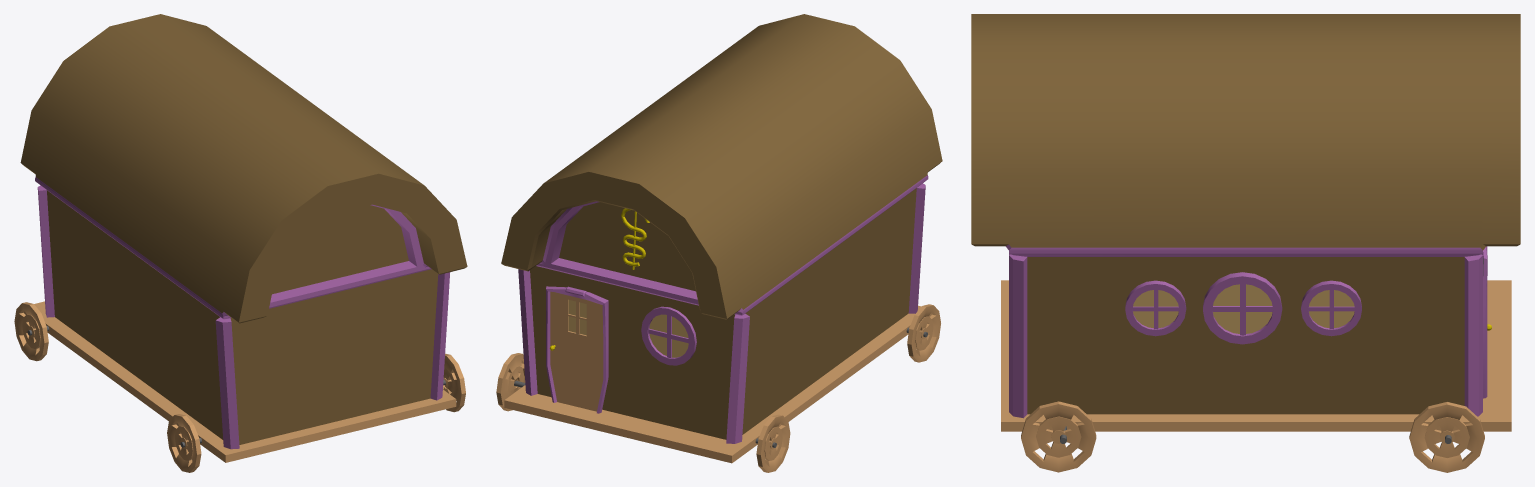
The model's file is Mama_R_Caravan _uv.fbx.
3 views of the same model, side by side, from view 1: azimuth 30°, elevation 25°; view 2: azimuth 150°, elevation 25°; view 3: azimuth 270°, elevation 25° (orthographic). The views are drawn at different scales.
Visible parts, largest first — view 1: pCylinder5, pCube18, pCylinder13, pCylinder15, pCylinder14; view 2: pCylinder5, pCube18, polySurface12, polySurface8, pCylinder15, pCylinder13, pCylinder10, rod:pCylinder3; view 3: pCylinder5, pCube18, polySurface9, pCylinder10, pCylinder14, polySurface10, polySurface11, polySurface12.
Boxes of the visible parts, left/top/right/bottom form: pCylinder5: left=20, top=14, right=467, bottom=449; pCube18: left=23, top=301, right=456, bottom=462; pCylinder13: left=167, top=414, right=201, bottom=472; pCylinder15: left=14, top=302, right=48, bottom=361; pCylinder14: left=443, top=353, right=465, bottom=412; pCylinder5: left=501, top=14, right=942, bottom=443; pCube18: left=504, top=305, right=931, bottom=463; polySurface12: left=546, top=286, right=608, bottom=413; polySurface8: left=641, top=306, right=696, bottom=365; pCylinder15: left=756, top=414, right=790, bottom=472; pCylinder13: left=907, top=304, right=940, bottom=362; pCylinder10: left=496, top=353, right=525, bottom=411; rod:pCylinder3: left=621, top=208, right=649, bottom=269; pCylinder5: left=971, top=14, right=1520, bottom=418; pCube18: left=1001, top=280, right=1511, bottom=431; polySurface9: left=1203, top=272, right=1282, bottom=344; pCylinder10: left=1409, top=402, right=1484, bottom=472; pCylinder14: left=1021, top=401, right=1096, bottom=472; polySurface10: left=1125, top=280, right=1186, bottom=336; polySurface11: left=1301, top=280, right=1361, bottom=336; polySurface12: left=1481, top=246, right=1491, bottom=398.
Bounding box in the file's own units: 302 × 305 × 421.
